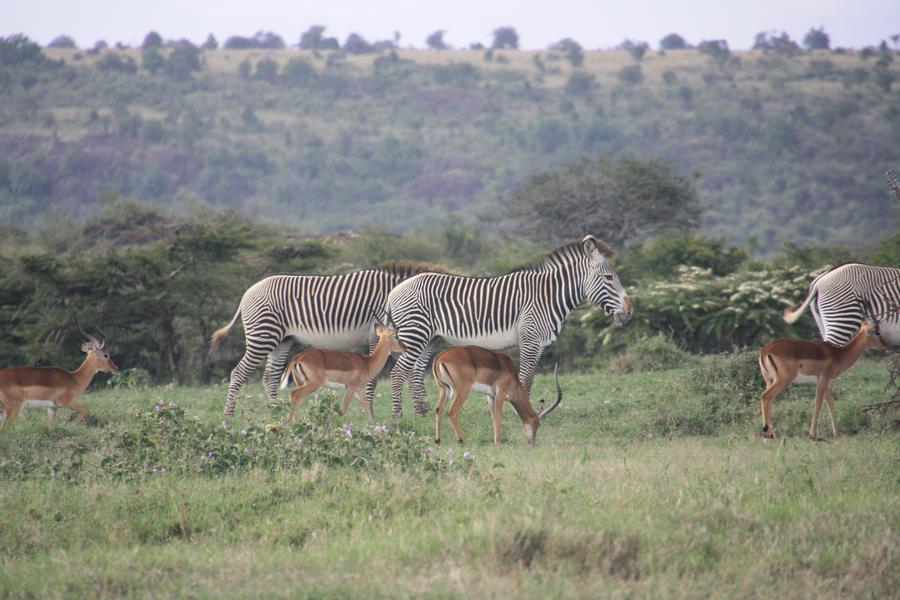zebra_grevys: (384, 250, 549, 343)
